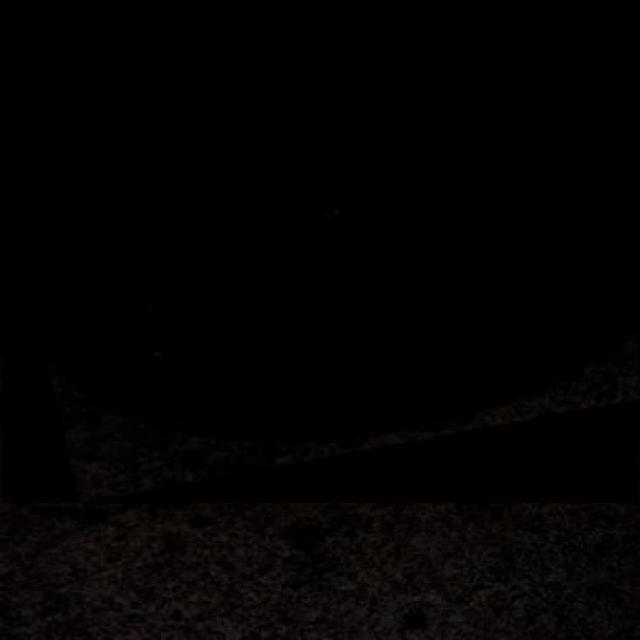Manhole: (1, 165, 638, 504)
